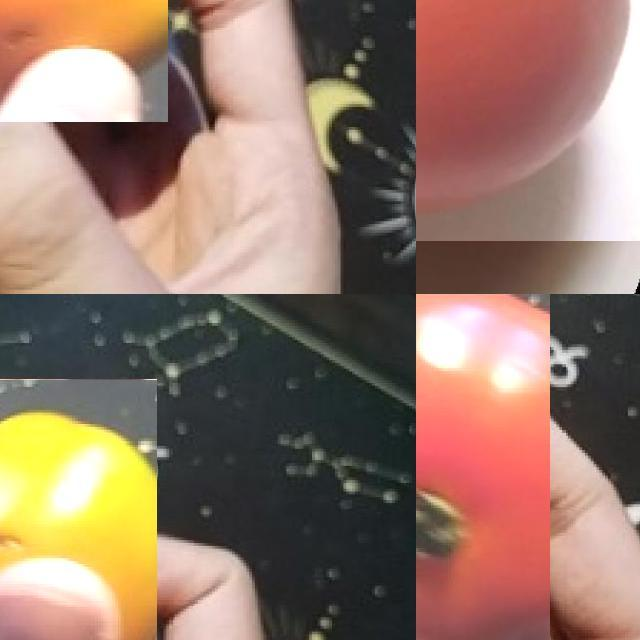Fresh Tomato: (416, 0, 640, 241), (416, 294, 550, 640)
Rotten Tomato: (0, 379, 157, 640), (0, 0, 168, 122)
